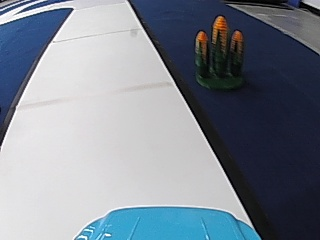corn: (193, 11, 246, 92)
